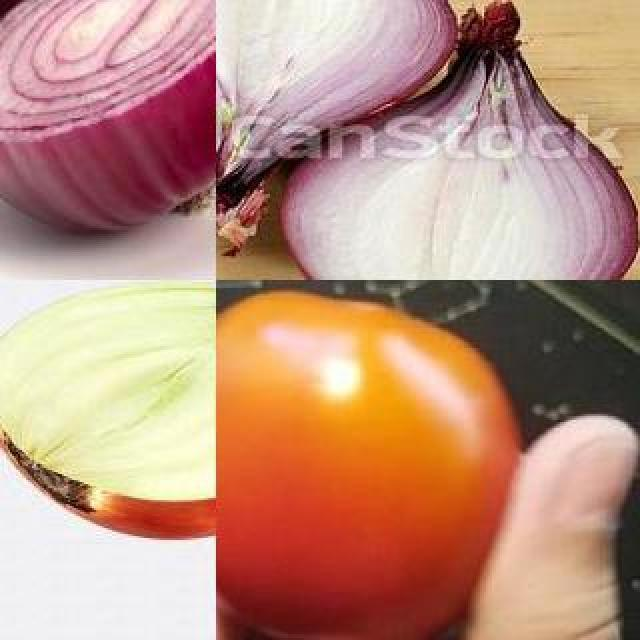Tomato: (216, 280, 554, 640)
